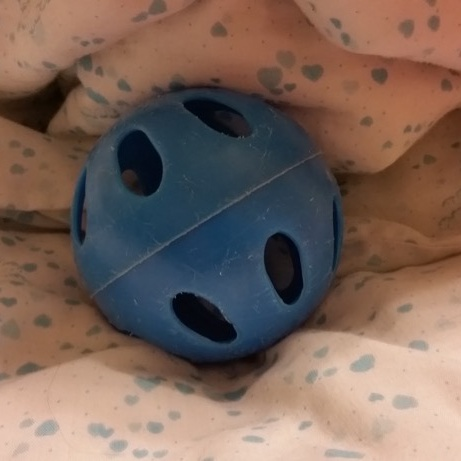ball: (65, 81, 352, 370)
